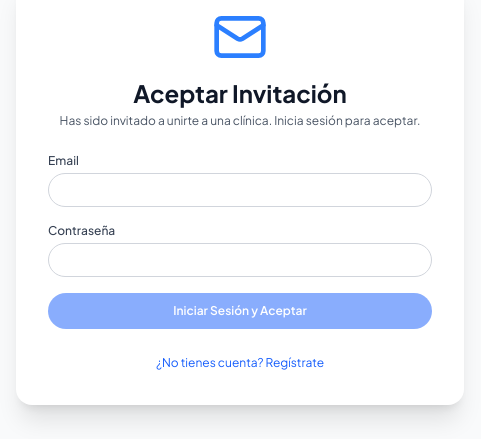
Test: AceptarInvitacion › debe hacer login y aceptar invitación exitosamente
Type "user@test.com" into the field labelled "Email" at (240, 190), box [48,173,432,207]
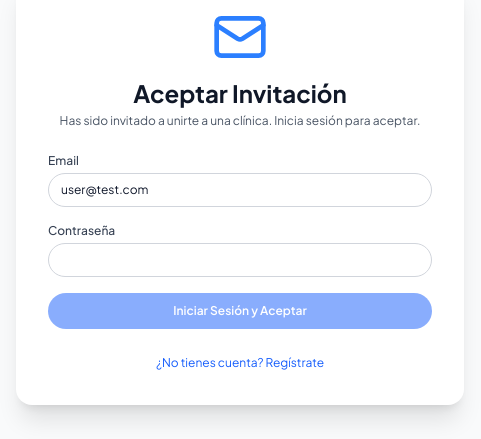
Type "password123" into the password field labelled "Contraseña" at (240, 260), box [48,243,432,277]
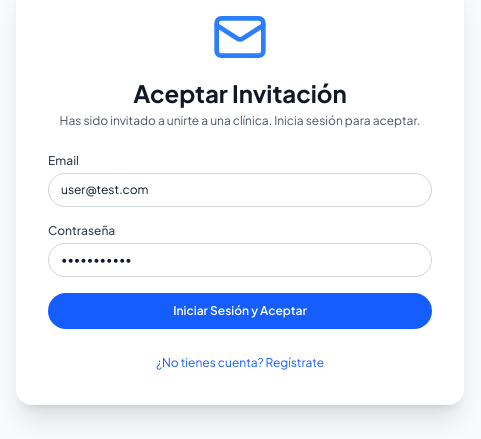
Click the button "Iniciar Sesión y Aceptar" at (240, 311), box [48,293,432,329]
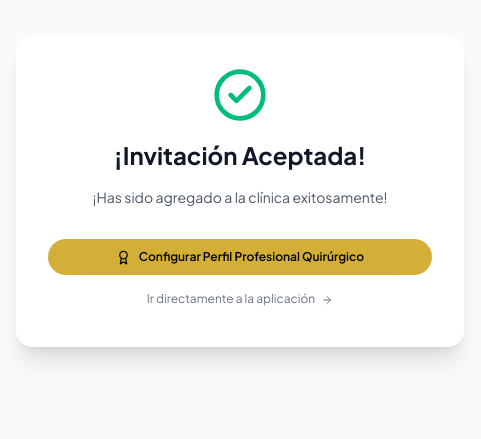
Result: the heading "¡Invitación Aceptada!" is shown at [114,140,366,170]
